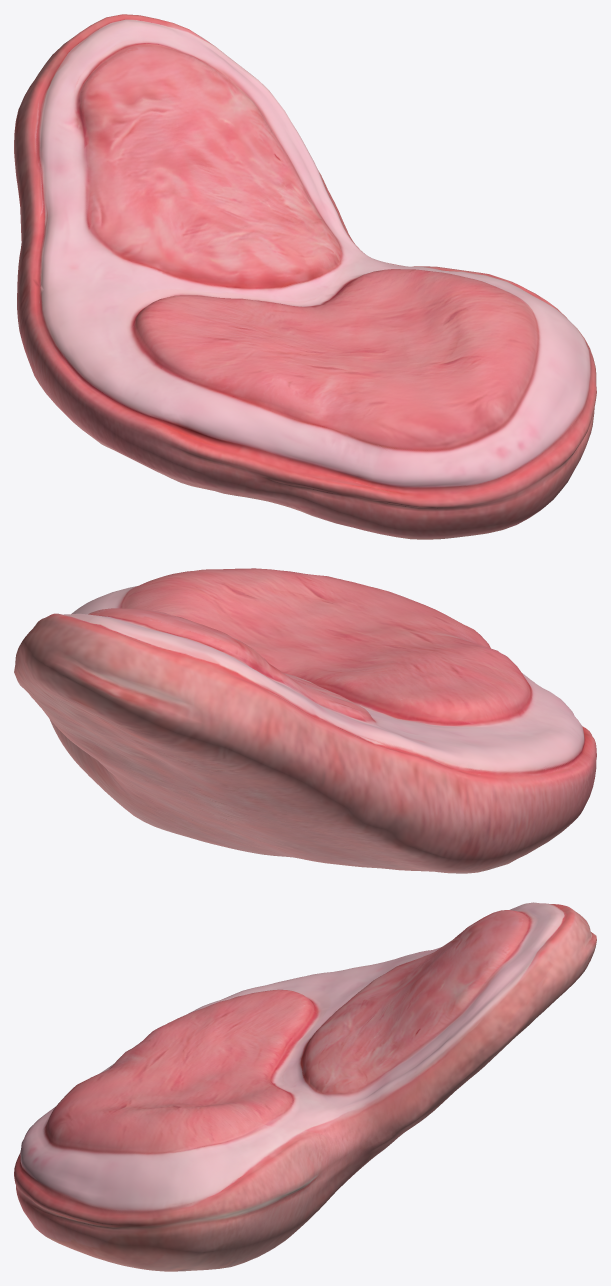
File: Ham.fbx
3 renders of one model, top to bottom at view 1: azimuth 30°, elevation 25°; view 2: azimuth 150°, elevation 25°; view 3: azimuth 270°, elevation 25°, orthographic. The views are drawn at different scales.
Parts seen in each view (by area): view 1: Mesh_0; view 2: Mesh_0; view 3: Mesh_0.
Part boxes in pixels (<box>): Mesh_0: <box>14,14,596,539</box>; Mesh_0: <box>14,568,596,873</box>; Mesh_0: <box>14,902,596,1271</box>.
Bounding box in the file's own units: 155 × 105 × 191.
Materials: 1 (1 with a texture image).
